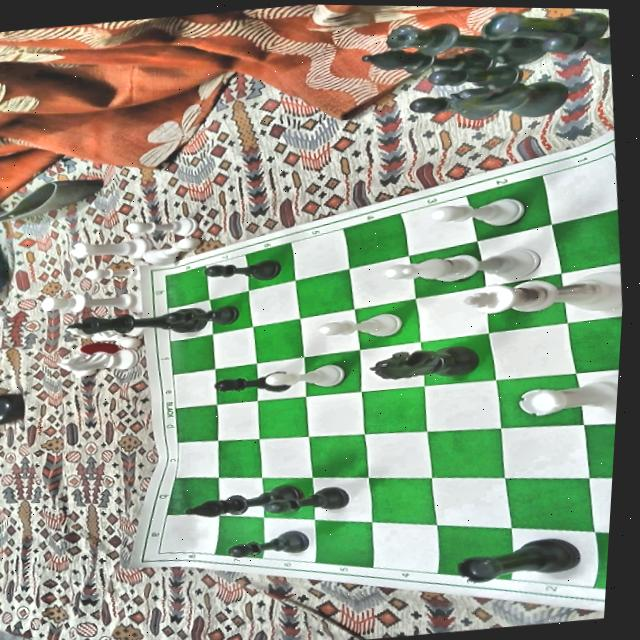BlackBishop: (353, 39, 493, 83), (179, 481, 303, 522)
BlackKing: (66, 303, 207, 346)
BlackKnight: (448, 75, 571, 127), (365, 341, 482, 386)
BlackPawn: (404, 87, 501, 127), (426, 60, 528, 98), (260, 482, 351, 517), (538, 32, 613, 70), (224, 527, 310, 560), (210, 368, 290, 400), (200, 257, 283, 286), (163, 303, 241, 331)
BlackQueen: (379, 7, 551, 77)
BlackRook: (451, 533, 582, 588), (475, 7, 611, 57)
WhiteBishop: (397, 243, 542, 291)
WhiteKing: (458, 267, 624, 324)
WhiteKnight: (52, 346, 140, 377)
WhitePawn: (432, 194, 528, 232), (314, 309, 402, 344), (388, 252, 464, 288), (262, 362, 348, 393), (141, 232, 206, 267), (123, 215, 198, 243), (86, 261, 152, 285)
WhiteQueen: (36, 284, 146, 323)
WhiteRook: (514, 372, 618, 419), (67, 234, 151, 264)
